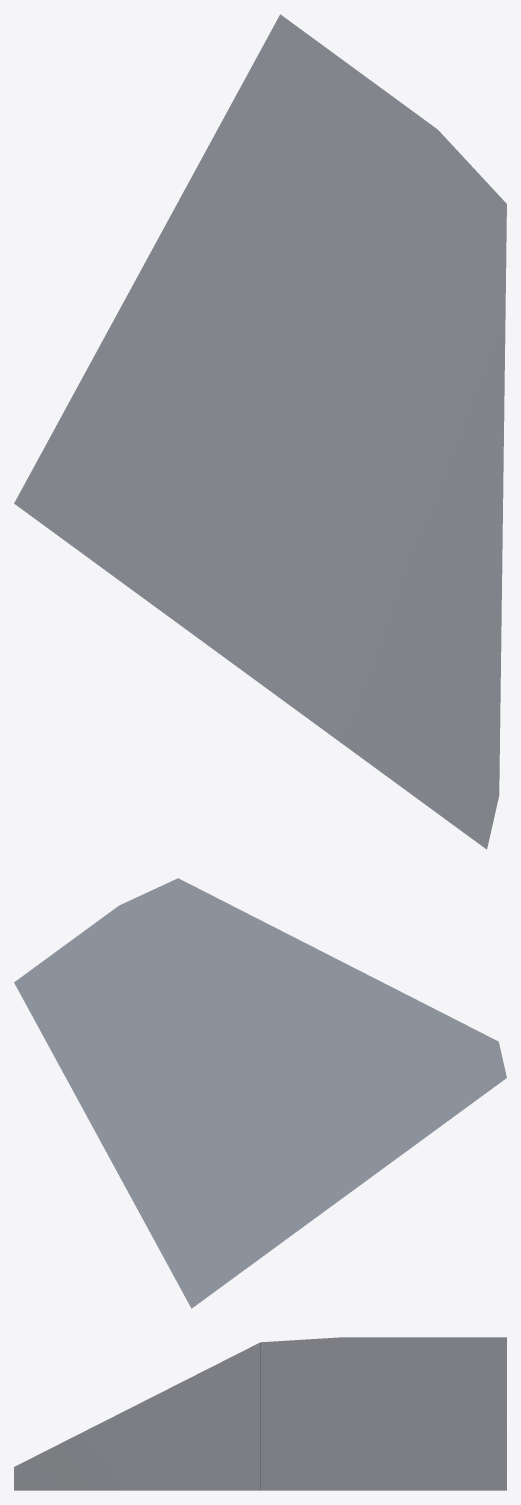
The model's file is GEO_SideWindow_RR.glb.
The picture shows the model from 3 angles, top to bottom: view 1: azimuth 30°, elevation 25°; view 2: azimuth 150°, elevation 25°; view 3: azimuth 270°, elevation 25°; orthographic projection. The views are drawn at different scales.
Parts seen in each view (by area): view 1: GEO_SideWindow_RR; view 2: GEO_SideWindow_RR; view 3: GEO_SideWindow_RR.
Part boxes in pixels (bbox=[...]): GEO_SideWindow_RR: bbox=[14, 14, 506, 849]; GEO_SideWindow_RR: bbox=[14, 878, 506, 1308]; GEO_SideWindow_RR: bbox=[14, 1337, 506, 1490].
Bounding box in the file's own units: 0.325 × 0.495 × 1.
